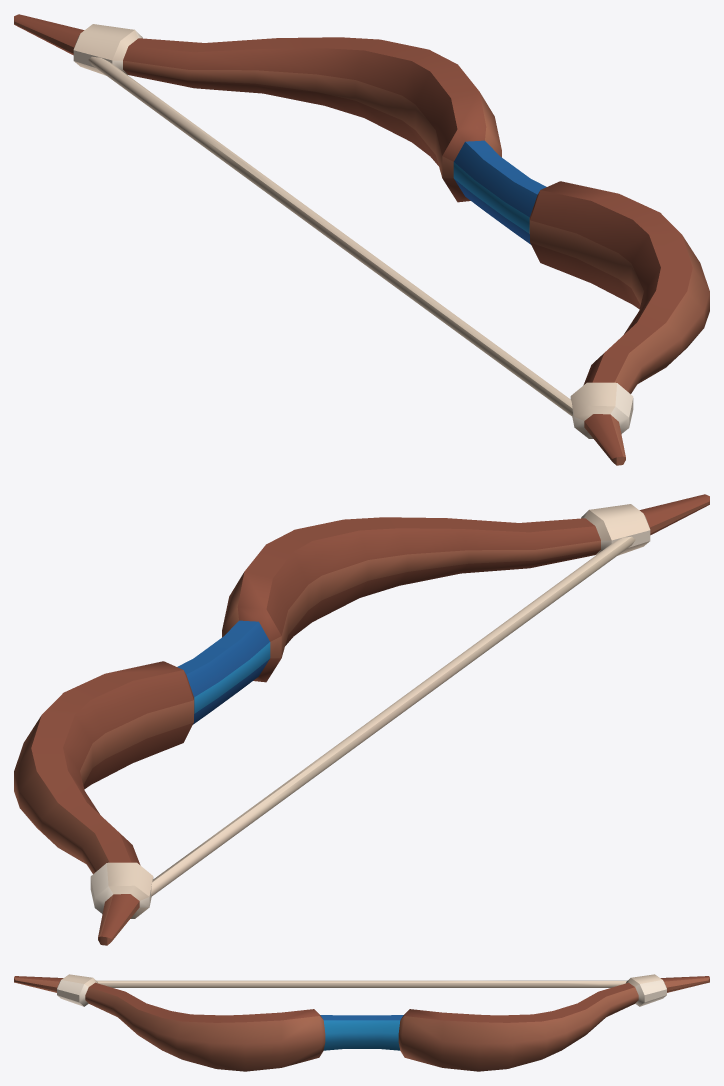
Rendered from bow_withstring.glb.
3 views of the same model, one above another, from view 1: azimuth 30°, elevation 25°; view 2: azimuth 150°, elevation 25°; view 3: azimuth 270°, elevation 25° (orthographic). The views are drawn at different scales.
Parts seen in each view (by area): view 1: bow_withString; view 2: bow_withString; view 3: bow_withString.
Part boxes in pixels (bbox=[...]): bow_withString: bbox=[14, 14, 709, 465]; bow_withString: bbox=[14, 494, 709, 945]; bow_withString: bbox=[14, 974, 709, 1071].
Size of the model in its own units: 0.4944 by 0.1555 by 1.98.
1 material, 1 textured.
